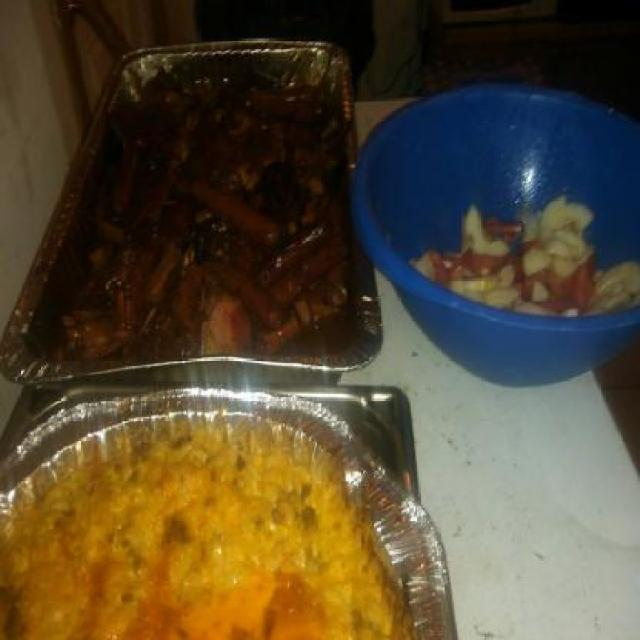hot dog: (60, 53, 348, 375), (430, 196, 596, 335)
macaroni and cheese: (10, 417, 410, 638)
